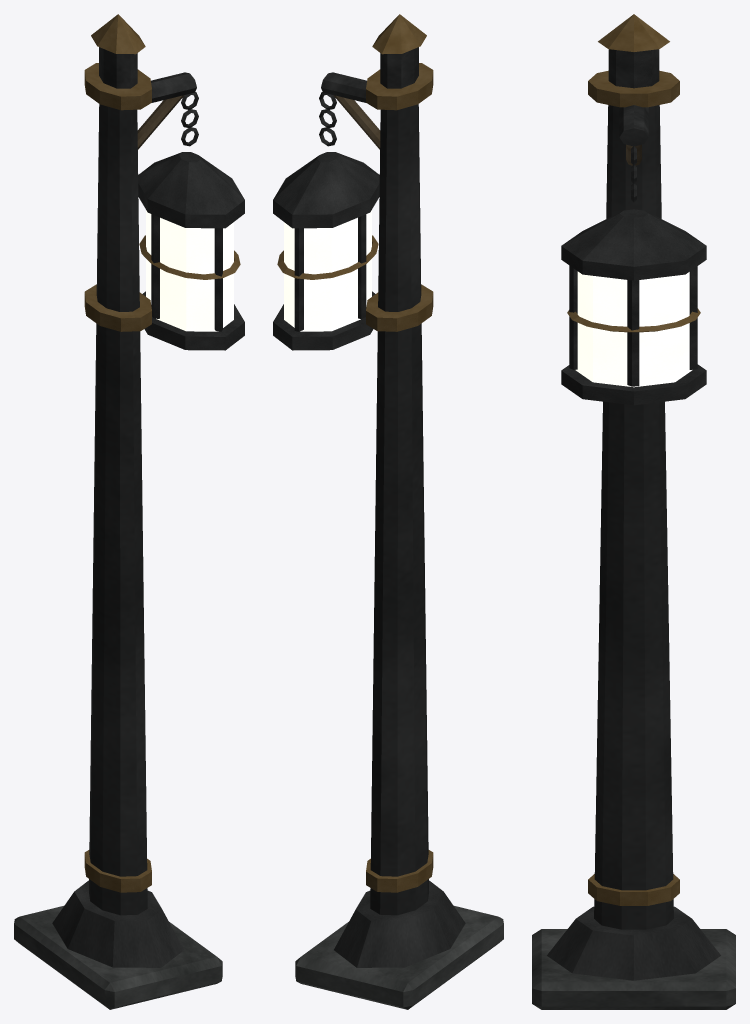
File: env_lantern_post.fbx
3 renders of one model, left to right at view 1: azimuth 30°, elevation 25°; view 2: azimuth 150°, elevation 25°; view 3: azimuth 270°, elevation 25°, orthographic. The views are drawn at different scales.
Visible parts, largest first — view 1: env_lantern_post; view 2: env_lantern_post; view 3: env_lantern_post.
Boxes of the visible parts, left/top/right/bottom form: env_lantern_post: left=14, top=14, right=244, bottom=1009; env_lantern_post: left=273, top=14, right=503, bottom=1009; env_lantern_post: left=532, top=14, right=735, bottom=1009.
Size of the model in its own units: 40 by 40 by 210.
1 material, 1 textured.
